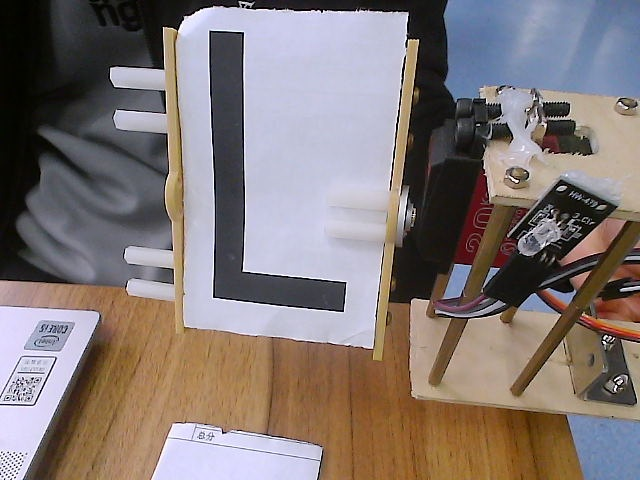L: (103, 6, 448, 364)
